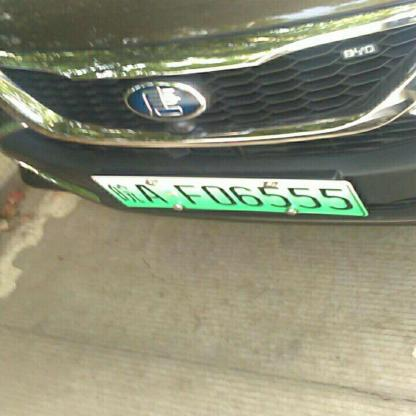lp: (90, 174, 364, 214)
